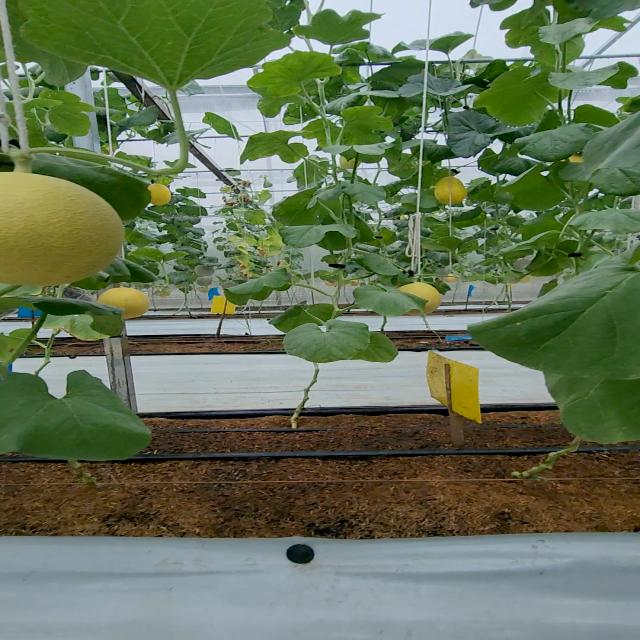Melon: (0, 170, 132, 288), (96, 287, 160, 321), (388, 282, 446, 317)
